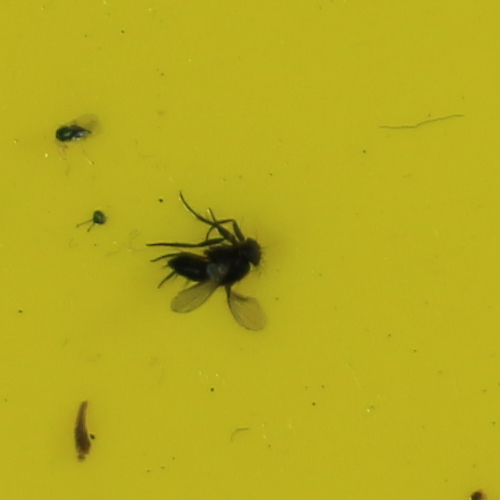Psyllaephagus: (56, 118, 97, 145)
